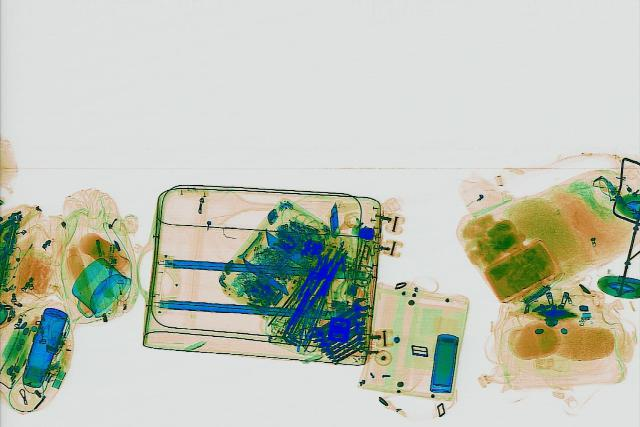Wrench: (296, 294, 378, 340), (328, 341, 370, 365)
